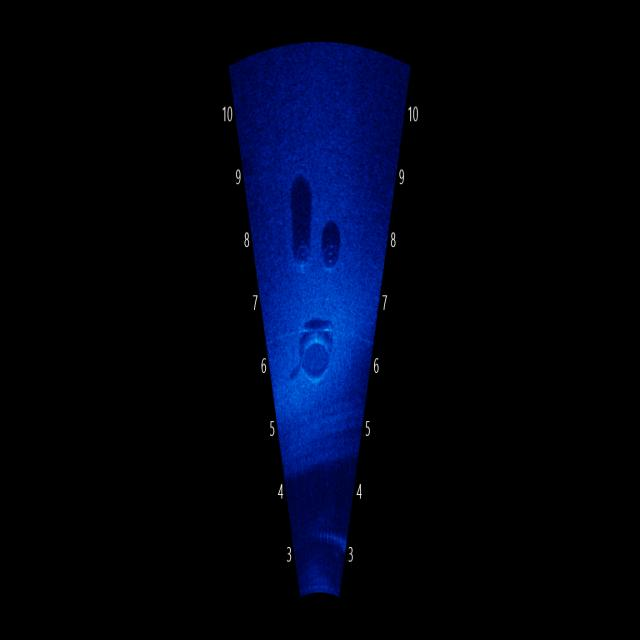circle: (287, 312, 337, 413), (317, 200, 352, 284), (282, 235, 316, 278)
